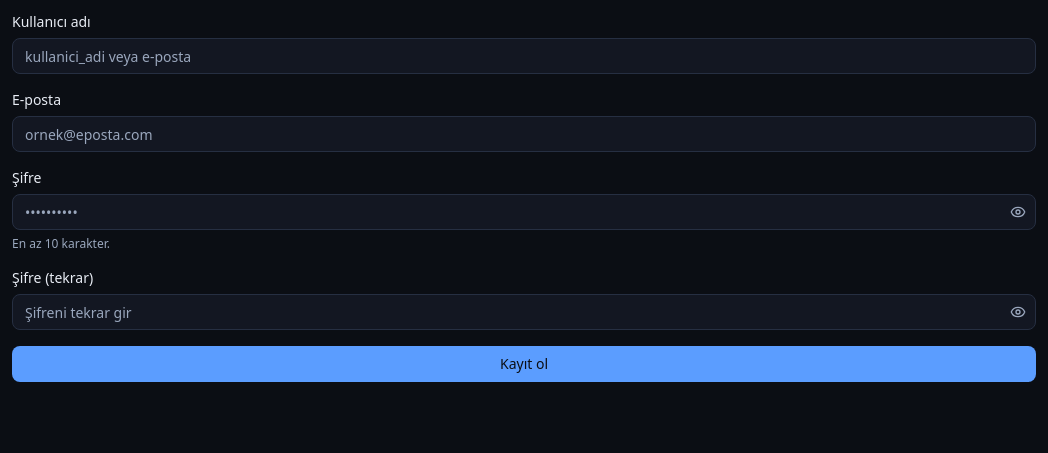
Test: RegisterForm › alınmış kullanıcı adında backend hatasını eşler
Type "efe" into the field labelled "Kullanıcı adı" at (524, 56), box [12,38,1036,74]
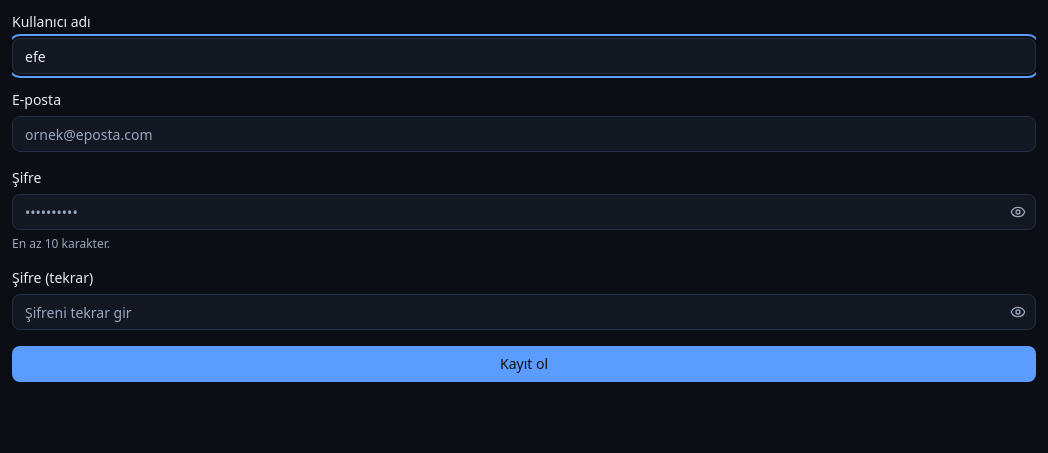
Type "efe@example.com" into the field labelled "E-posta" at (524, 134), box [12,116,1036,152]
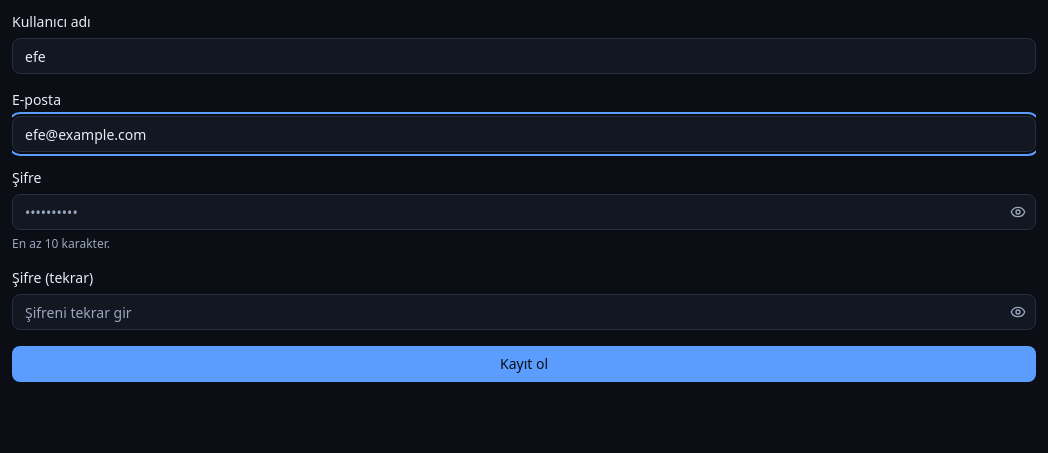
Type "0123456789" into the password field labelled "Şifre" at (524, 212), box [12,194,1036,230]
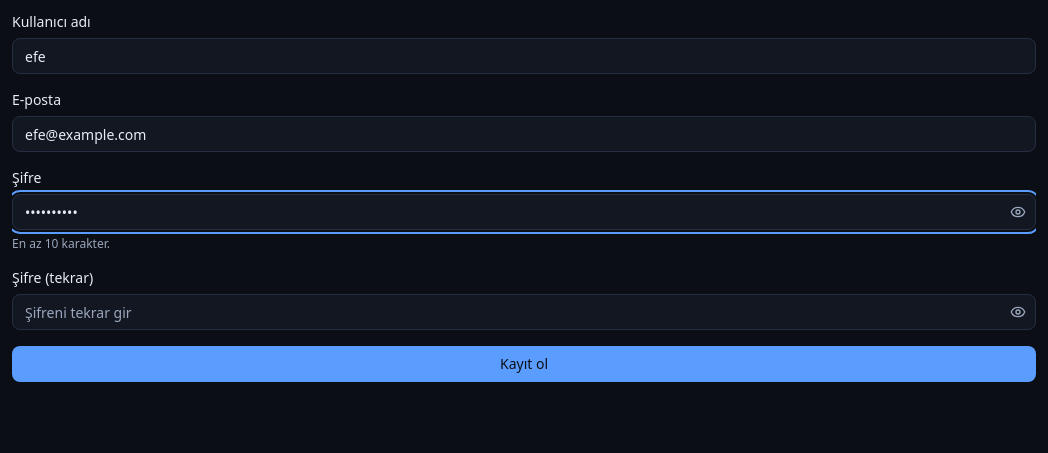
Type "0123456789" into the password field labelled "Şifre (tekrar)" at (524, 312), box [12,294,1036,330]
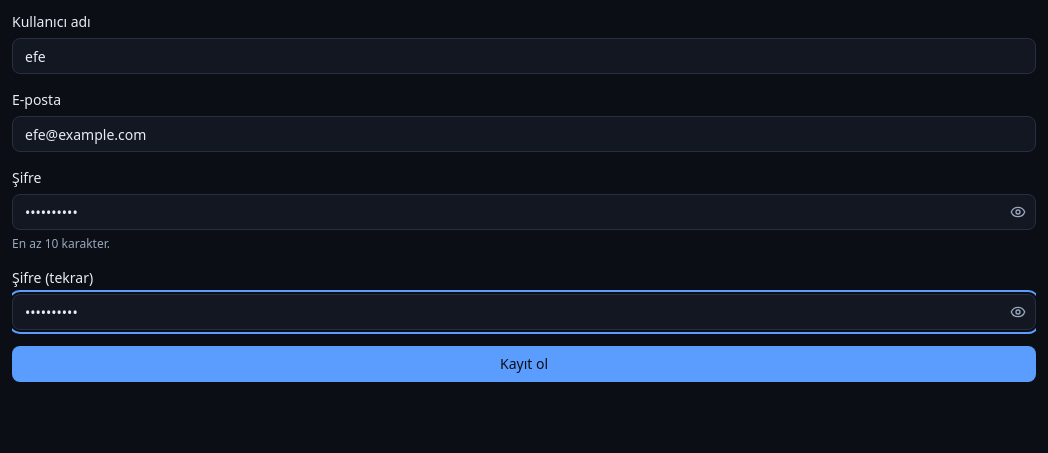
Click the button "Kayıt ol" at (524, 364), box [12,346,1036,382]
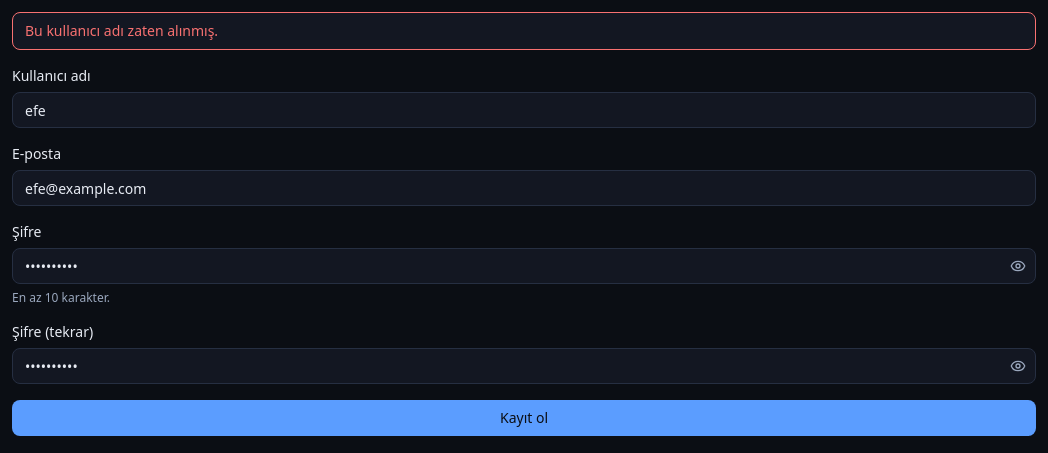
Expected: the text "Bu kullanıcı adı zaten alınmış." is shown, [12,12,1036,50]
